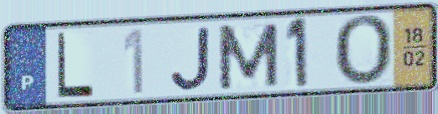1: (283, 15, 311, 92), (121, 25, 145, 98)
J: (169, 24, 213, 93)
L: (55, 30, 97, 100)
M: (214, 21, 282, 93)
O: (331, 13, 395, 88)
